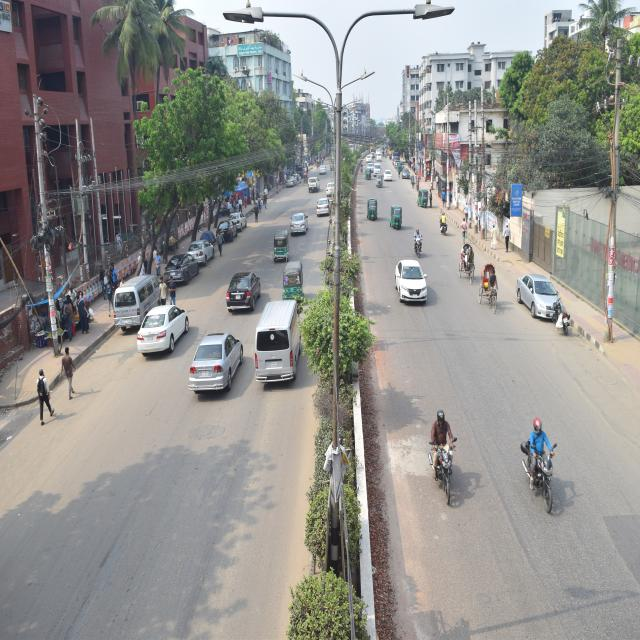car: (187, 325, 242, 396), (138, 296, 192, 362), (515, 272, 566, 324), (392, 254, 434, 307), (162, 247, 205, 292), (224, 262, 264, 310), (185, 238, 221, 268), (286, 208, 310, 239), (217, 216, 240, 246), (228, 210, 249, 232), (313, 194, 331, 218), (383, 162, 398, 185), (322, 177, 335, 199), (308, 173, 321, 193), (372, 160, 383, 176)
microbus: (111, 270, 171, 344), (256, 295, 301, 387)
motorbike: (518, 420, 565, 519), (424, 418, 465, 518), (408, 219, 426, 260), (436, 214, 452, 242)
